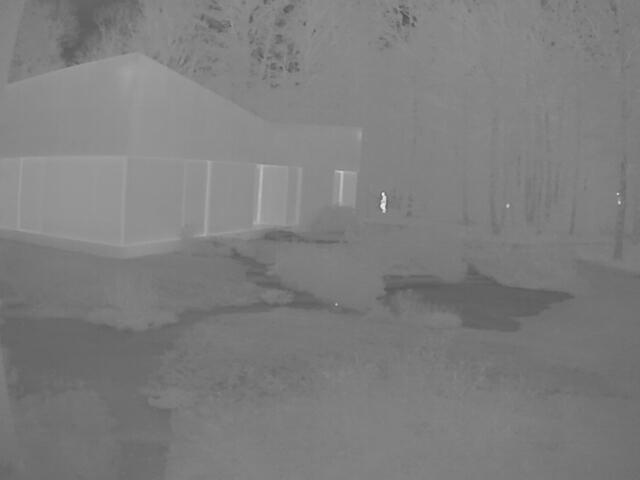person: (378, 191, 386, 213)
